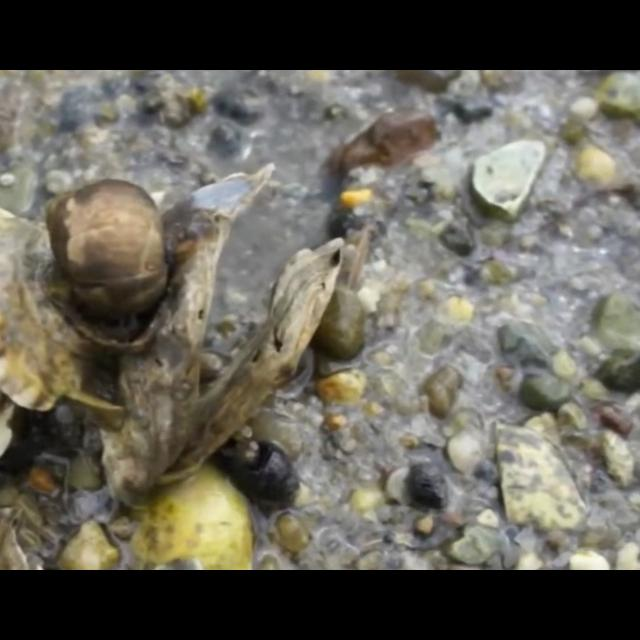Oyster-Closed: (0, 205, 104, 413)
Oyster-Open: (99, 162, 348, 514)
